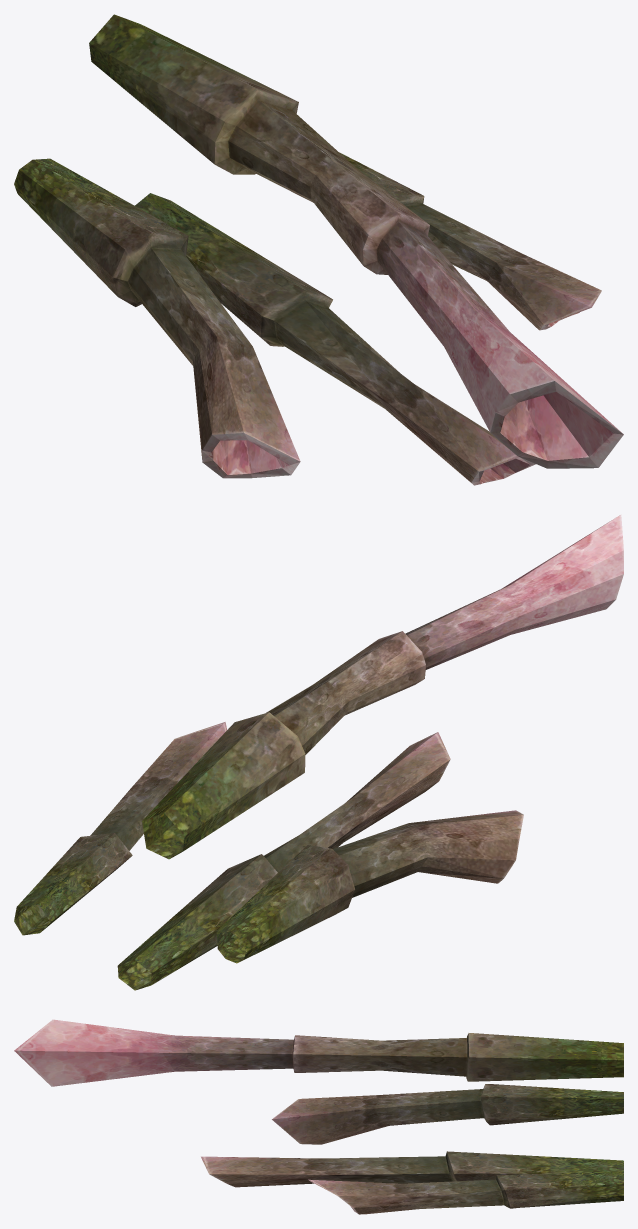
Rendered from yatelandisi_dongxue_06_haizhiwu05.obj.
3 views of the same model, one above another, from view 1: azimuth 30°, elevation 25°; view 2: azimuth 150°, elevation 25°; view 3: azimuth 270°, elevation 25° (orthographic). The views are drawn at different scales.
Parts seen in each view (by area): view 1: yatelandisi_dongxue_06_haizhiwu05; view 2: yatelandisi_dongxue_06_haizhiwu05; view 3: yatelandisi_dongxue_06_haizhiwu05.
Boxes of the visible parts, bbox=[...] form: yatelandisi_dongxue_06_haizhiwu05: bbox=[14, 14, 623, 485]; yatelandisi_dongxue_06_haizhiwu05: bbox=[14, 514, 623, 990]; yatelandisi_dongxue_06_haizhiwu05: bbox=[14, 1019, 623, 1214].
Bounding box in the file's own units: 143 × 87.84 × 321.
Materials: 1 (1 with a texture image).
